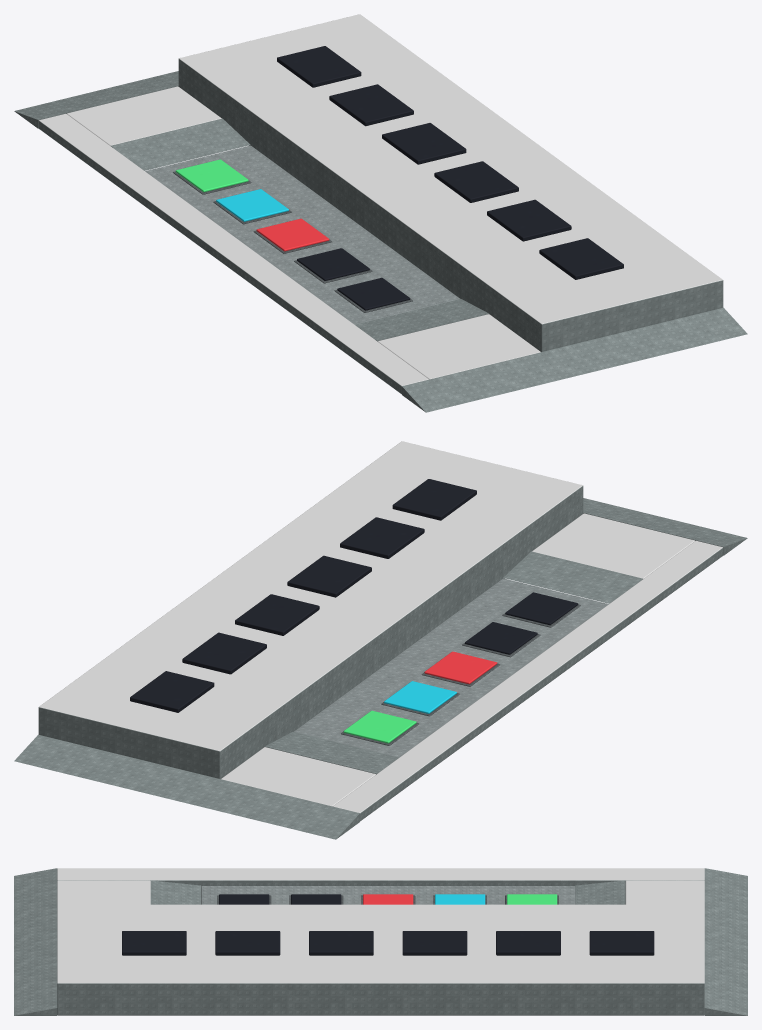
File: Terrace_B.fbx
3 views of the same model, one above another, from view 1: azimuth 30°, elevation 25°; view 2: azimuth 150°, elevation 25°; view 3: azimuth 270°, elevation 25° (orthographic). The views are drawn at different scales.
Parts seen in each view (by area): view 1: Shelf, PocketFloor, Apron, EndSlopeL, WingL, WingR, CheekR, EndSlopeR, CheekL, Plinth1, Plinth2, Plinth5 (+8 smaller); view 2: Shelf, PocketFloor, Apron, EndSlopeR, WingL, WingR, CheekL, EndSlopeL, CheekR, Plinth2, Plinth4, Plinth1 (+8 smaller); view 3: Shelf, Apron, EndSlopeL, EndSlopeR, PocketFloor, WingL, WingR, Plinth3, Plinth1, Plinth5, Plinth2, Plinth4 (+8 smaller).
Boxes of the visible parts, bbox=[...] form: Shelf: bbox=[178, 14, 723, 351]; PocketFloor: bbox=[145, 145, 459, 324]; Apron: bbox=[38, 113, 428, 394]; EndSlopeL: bbox=[402, 307, 747, 412]; WingL: bbox=[378, 314, 540, 379]; WingR: bbox=[67, 86, 221, 145]; CheekR: bbox=[111, 118, 250, 170]; EndSlopeR: bbox=[14, 71, 178, 128]; CheekL: bbox=[355, 299, 488, 341]; Plinth1: bbox=[277, 46, 361, 87]; Plinth2: bbox=[329, 84, 413, 126]; Plinth5: bbox=[487, 199, 571, 241]; Shelf: bbox=[38, 441, 583, 778]; PocketFloor: bbox=[294, 578, 608, 757]; Apron: bbox=[333, 540, 723, 821]; EndSlopeR: bbox=[14, 734, 359, 839]; WingL: bbox=[532, 513, 694, 578]; WingR: bbox=[221, 747, 375, 806]; CheekL: bbox=[503, 551, 642, 603]; EndSlopeL: bbox=[583, 498, 747, 555]; CheekR: bbox=[264, 732, 398, 774]; Plinth2: bbox=[182, 632, 266, 674]; Plinth4: bbox=[287, 555, 371, 597]; Plinth1: bbox=[130, 671, 214, 712]; Shelf: bbox=[57, 904, 704, 1015]; Apron: bbox=[57, 868, 704, 886]; EndSlopeL: bbox=[14, 868, 57, 1015]; EndSlopeR: bbox=[704, 868, 747, 1015]; PocketFloor: bbox=[201, 886, 575, 904]; WingL: bbox=[57, 880, 150, 904]; WingR: bbox=[625, 880, 704, 904]; Plinth3: bbox=[402, 931, 467, 955]; Plinth1: bbox=[589, 931, 654, 955]; Plinth5: bbox=[215, 931, 280, 955]; Plinth2: bbox=[496, 931, 560, 955]; Plinth4: bbox=[309, 931, 373, 955].
Size of the model in its own units: 46 by 5.6 by 102.
